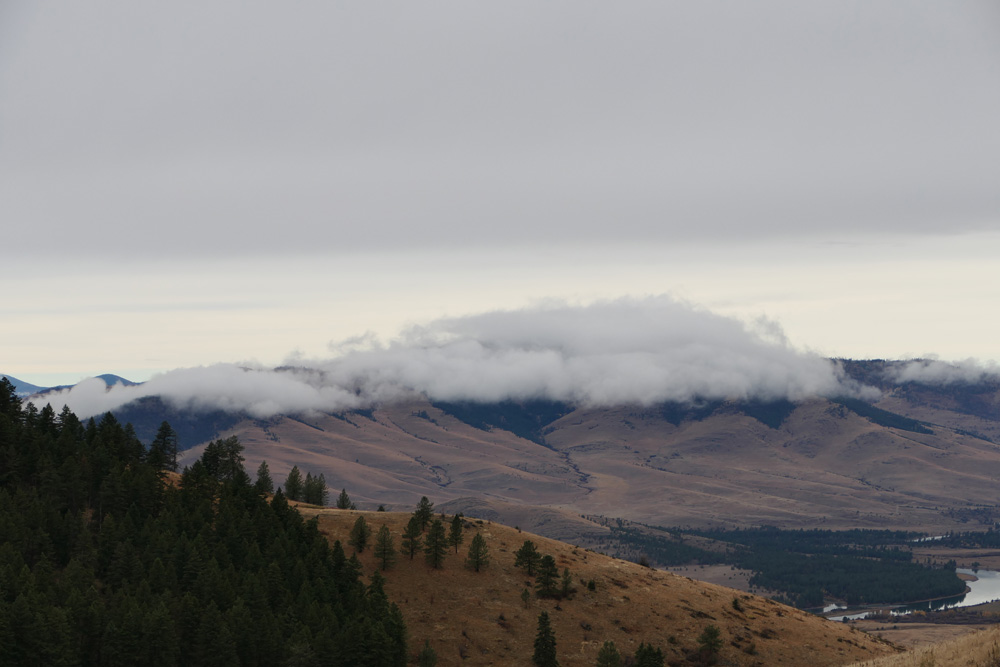Stratus: (4, 5, 977, 238), (73, 282, 857, 421)
